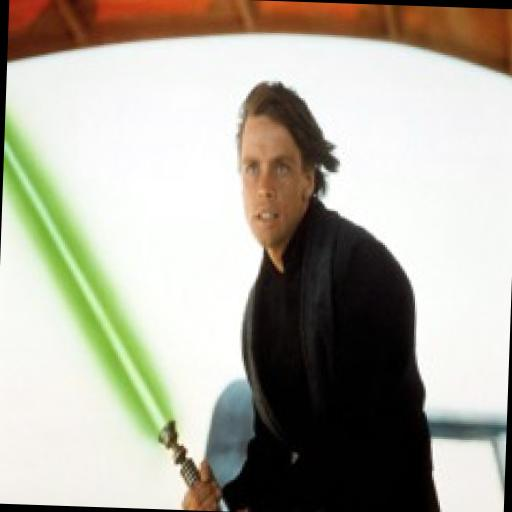lightsaber: (0, 107, 243, 511)
